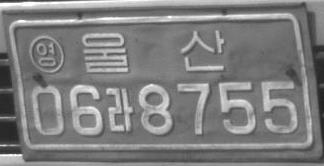0: (31, 84, 64, 136)
5: (260, 79, 298, 134), (218, 81, 256, 134)
6: (69, 83, 103, 136)
7: (176, 81, 209, 136)
8: (138, 83, 173, 136)
라: (105, 87, 133, 131)
영: (28, 34, 64, 74)
울산_D: (81, 29, 224, 73)
